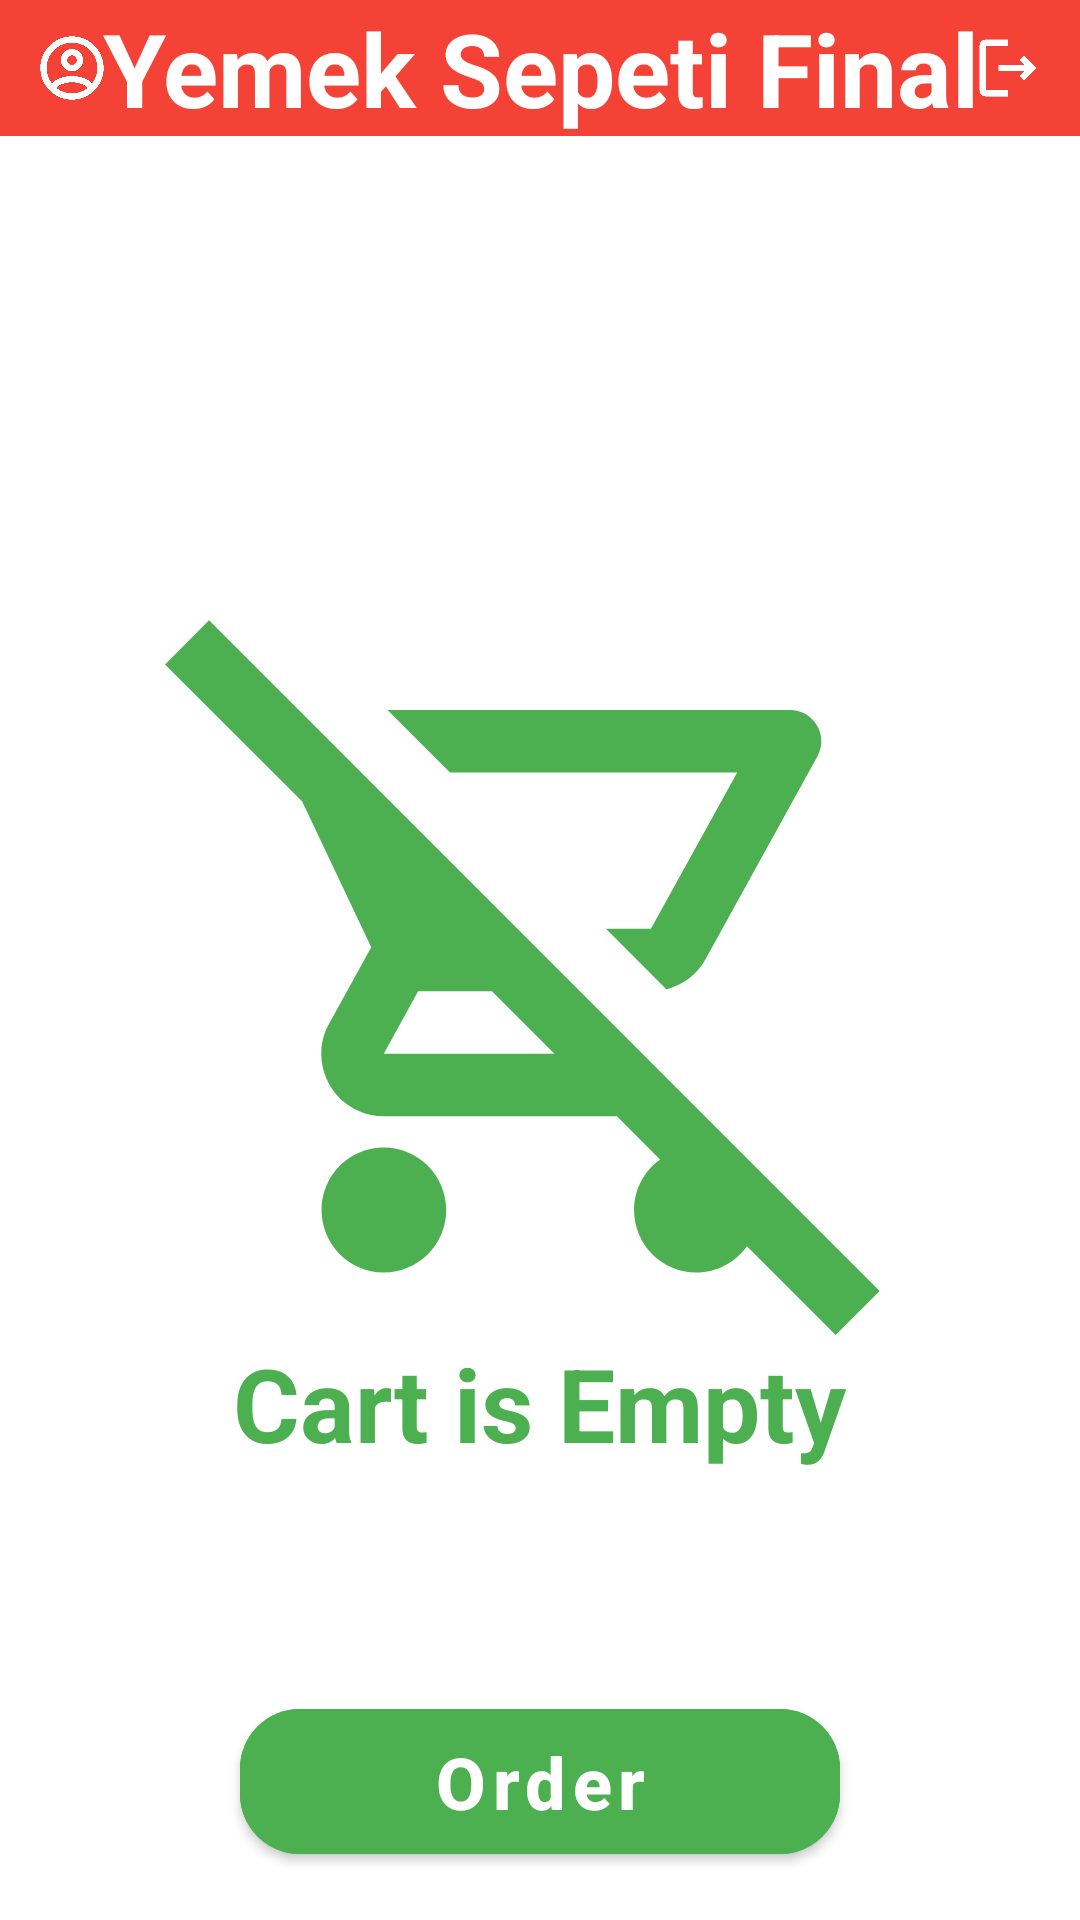

Named icons in this screenshot (1080w x 1920h) and their centers, (x=x, y=y):
account circle: (x=72, y=68)
